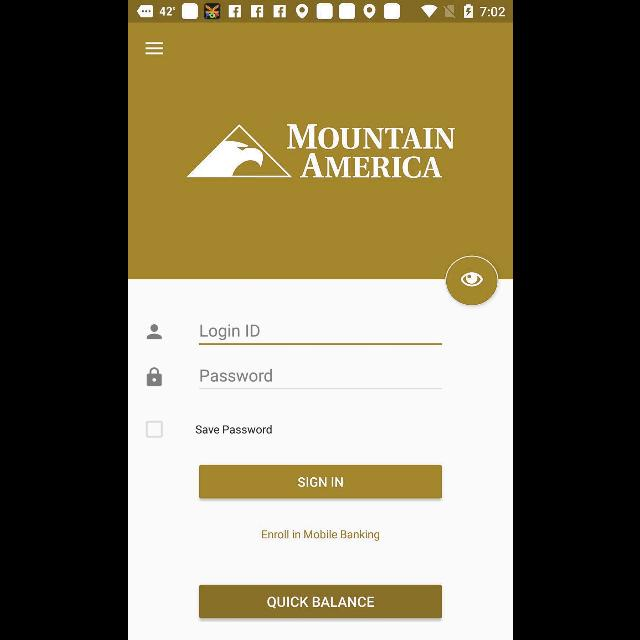button: (444, 256, 498, 306)
checkbox: (144, 420, 162, 438)
icon: (146, 368, 162, 387), (146, 324, 162, 340), (145, 42, 163, 56)
image: (186, 124, 454, 178)
input: (198, 324, 442, 346), (198, 368, 442, 389)
text: (261, 529, 379, 541), (200, 324, 258, 340), (200, 370, 272, 382), (195, 424, 271, 434)
textbutton: (198, 465, 442, 499), (198, 584, 442, 618)
uppertaskbar: (128, 1, 512, 23)
